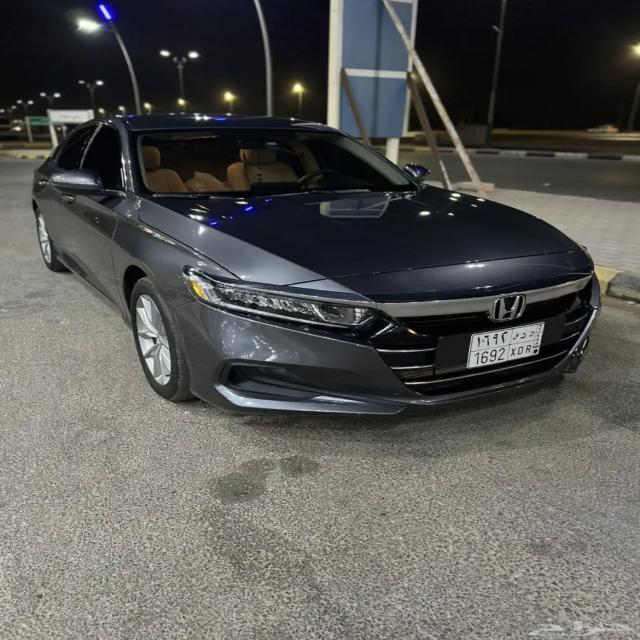license_plate: (470, 323, 544, 373)
